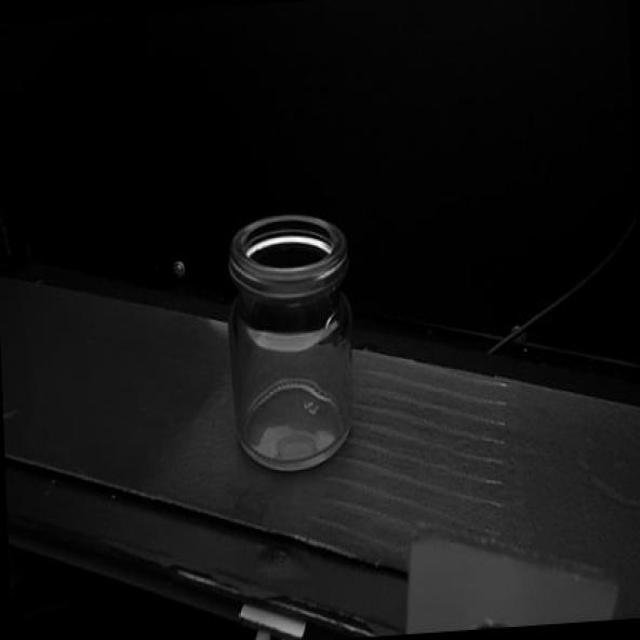defect: (324, 310, 338, 330)
glass: (225, 209, 361, 483)
